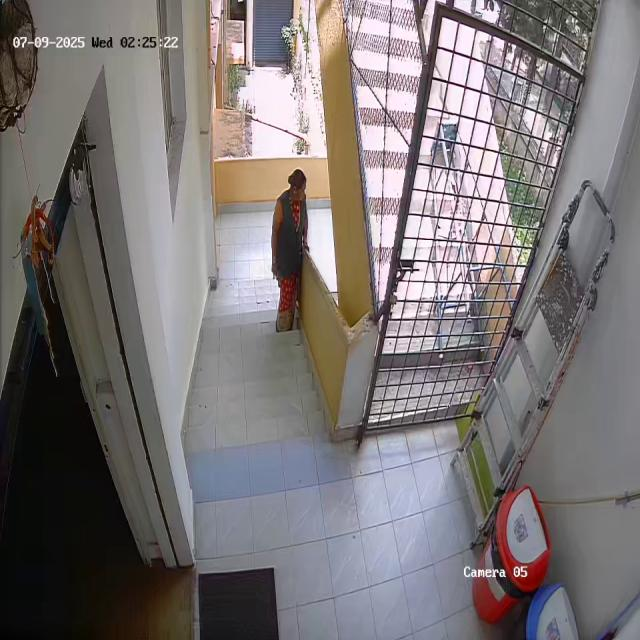person: (270, 167, 312, 331)
